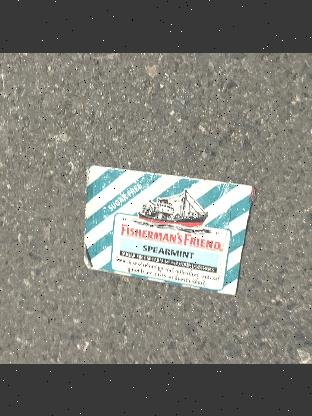Others: (71, 153, 267, 303)
